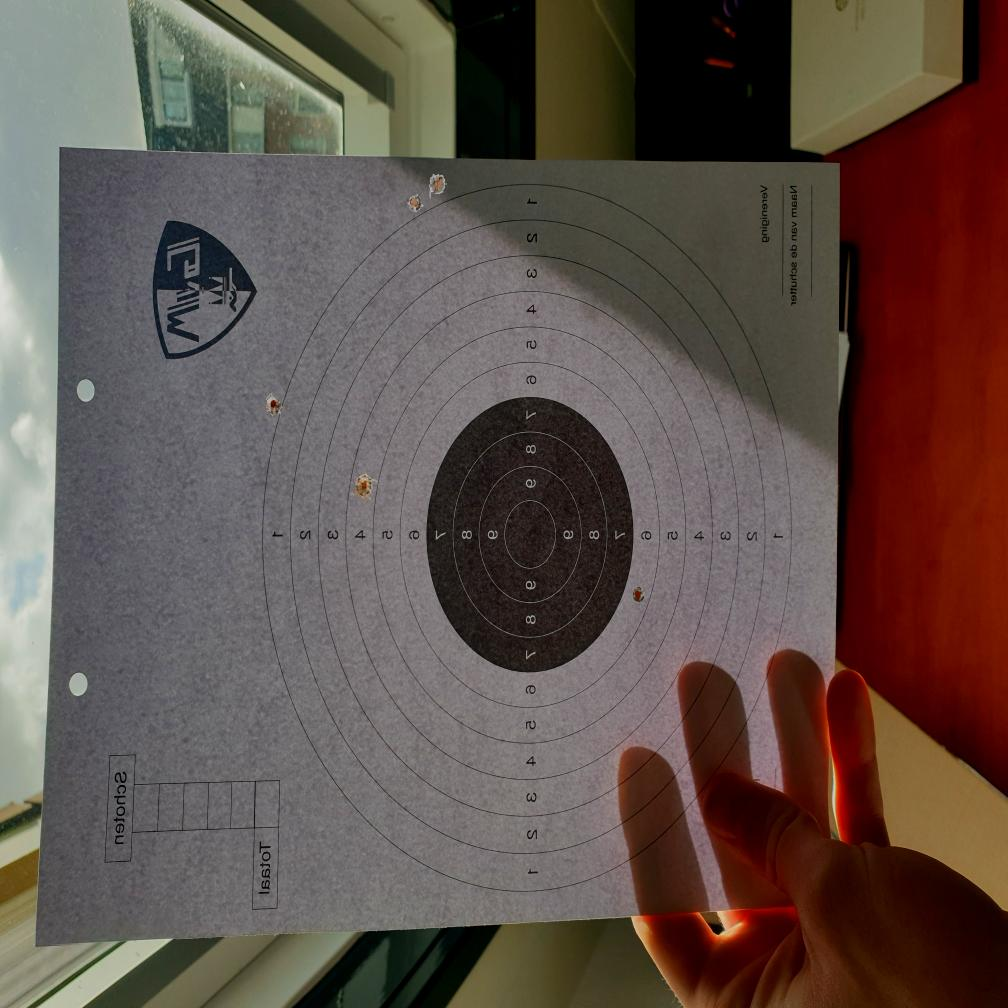0: (427, 172, 448, 199), (406, 193, 424, 214)
1: (264, 393, 284, 419)
4: (351, 472, 378, 502)
6: (632, 586, 646, 603)
Target: (257, 180, 794, 898)
black_contour: (425, 398, 634, 672)
